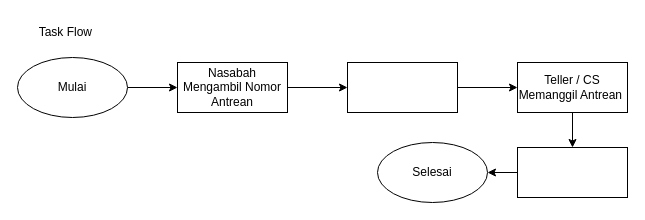
Image size: 645x220. Some labels were removed from this diagram. Each missing label, with the centre of its shape:
Nasabah Menuju CS / Teller: the point at 572,172
Sistem Mencetak Nomor Antrean: the point at 402,87
